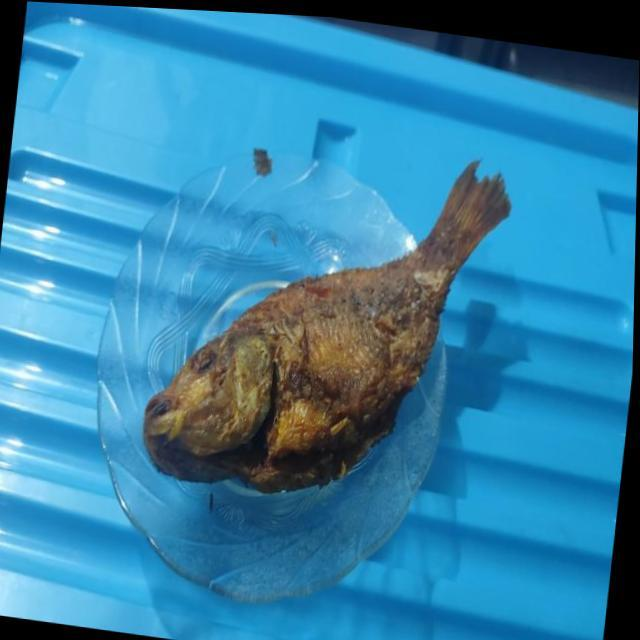ikan_mujair: (143, 160, 510, 492)
